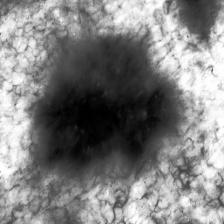Benign Marking or Mole: (36, 36, 173, 173), (177, 0, 215, 40)
